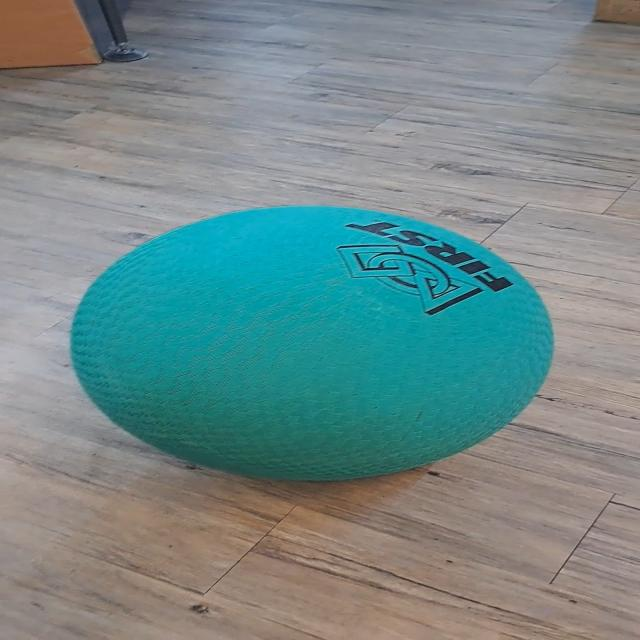ALGAE: (66, 203, 556, 483)
